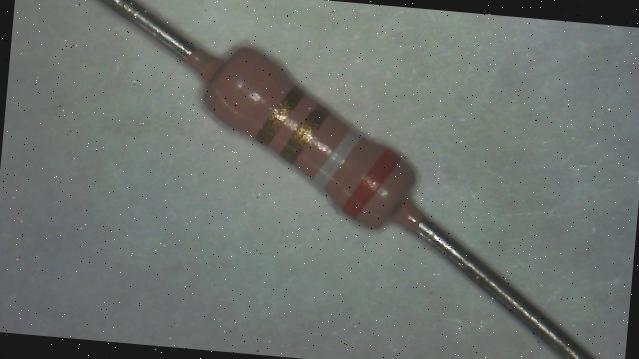gold: (256, 85, 303, 147), (280, 110, 322, 160)
orange: (340, 146, 399, 222)
resistor: (164, 23, 457, 260)
white: (312, 128, 358, 190)
